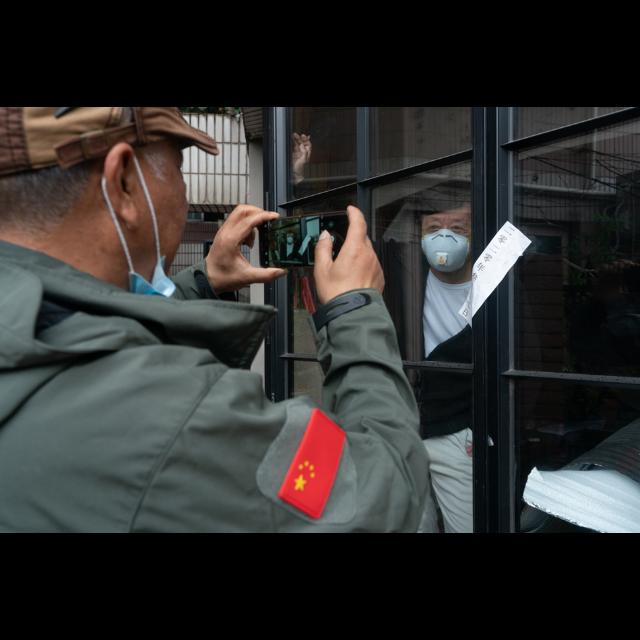masks: (416, 226, 470, 274)
